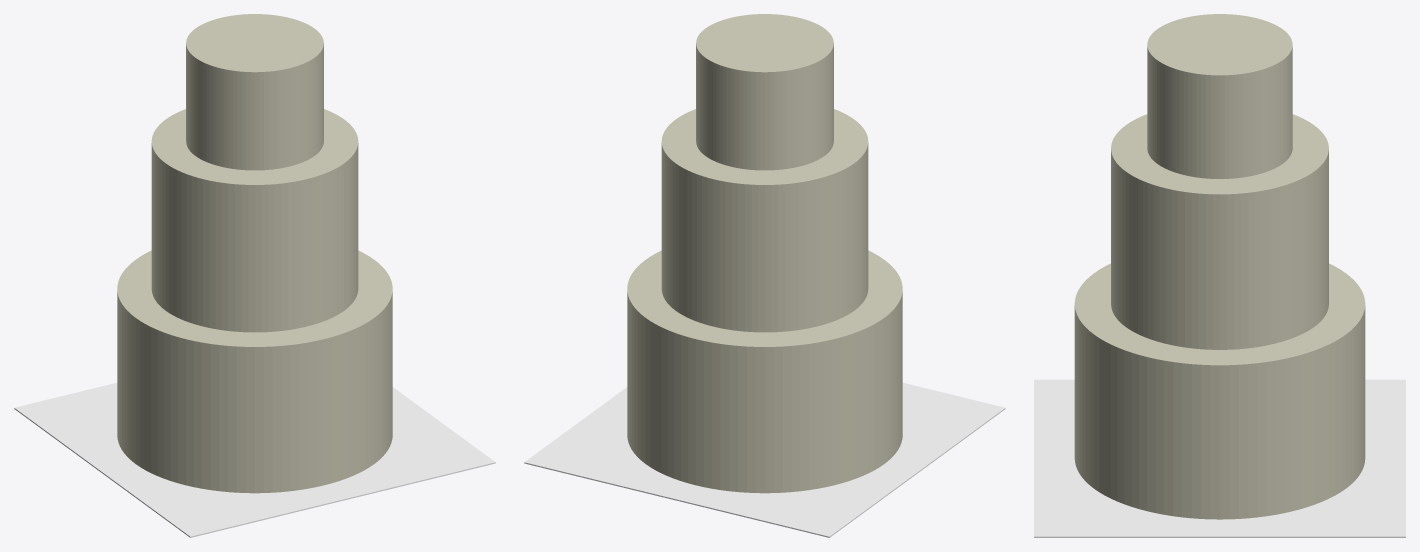
Rendered from cake_tier3_8-6-4_layers3_v26.glb.
3 renders of one model, left to right at view 1: azimuth 30°, elevation 25°; view 2: azimuth 150°, elevation 25°; view 3: azimuth 270°, elevation 25°, orthographic. The views are drawn at different scales.
Parts seen in each view (by area): view 1: Tier0, Tier1, Tier2, Board; view 2: Tier0, Tier1, Tier2, Board; view 3: Tier0, Tier1, Board, Tier2.
Part boxes in pixels (x1,y1,x2,y2): Tier0: (117,250,392,493); Tier1: (151,109,358,332); Tier2: (186,14,323,170); Board: (14,382,495,537); Tier0: (627,250,902,493); Tier1: (661,109,868,332); Tier2: (696,14,833,170); Board: (524,382,1005,537); Tier0: (1074,263,1365,519); Tier1: (1111,114,1328,349); Board: (1034,379,1405,537); Tier2: (1147,14,1292,178).
Size of the model in its own units: 0.26 by 0.32 by 0.26.
